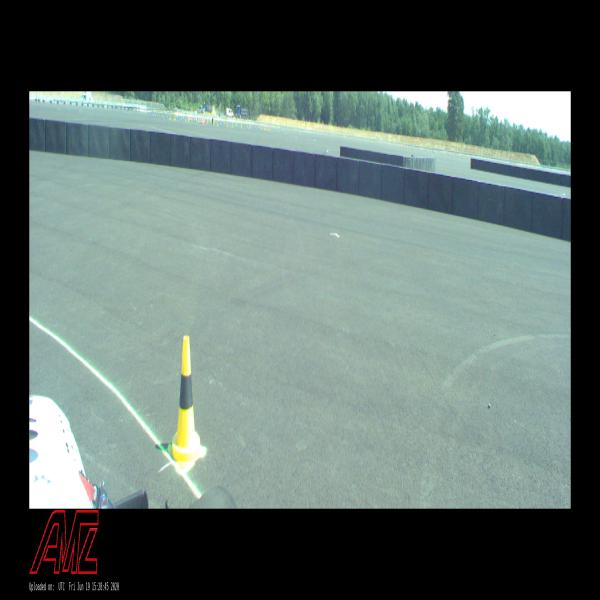yellow_cone: (168, 336, 202, 468)
